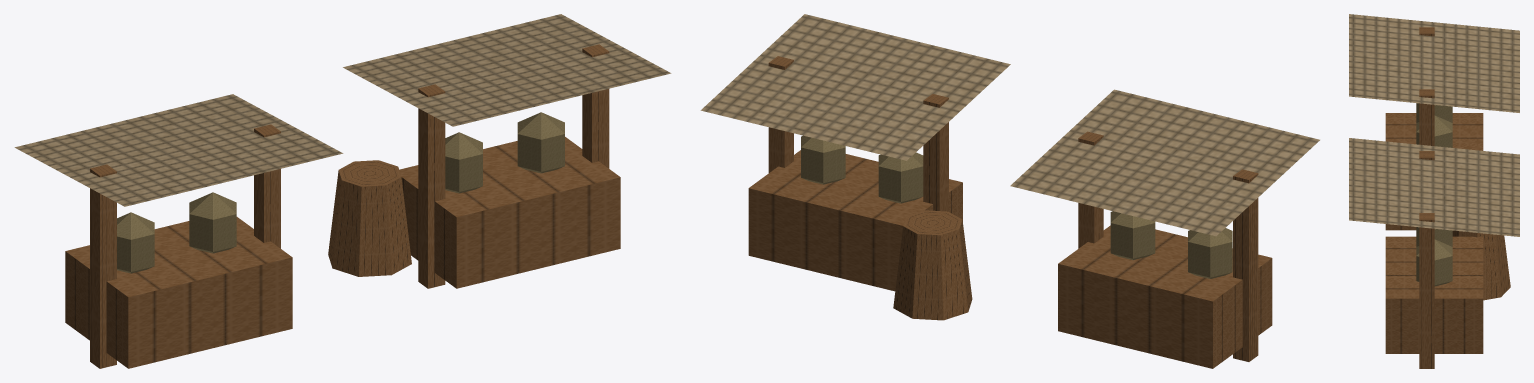
The model's file is domestic-MARKET-1-lod0.glb.
3 renders of one model, left to right at view 1: azimuth 30°, elevation 25°; view 2: azimuth 150°, elevation 25°; view 3: azimuth 270°, elevation 25°, orthographic. The views are drawn at different scales.
Bounding box in the file's own units: 0.8 × 0.28 × 0.28.
Materials: 1 (1 with a texture image).
